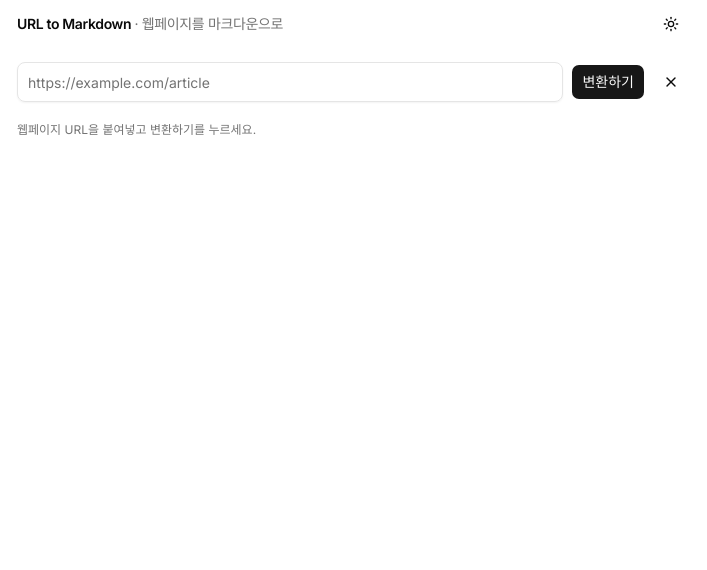
지우기를 누르면 입력과 결과가 초기화된다
The width and height of the screenshot is (707, 570).
Type "https://buildnote.dev/x" into the field named "웹페이지 URL". click: [290, 82]
box: [17, 62, 564, 102]
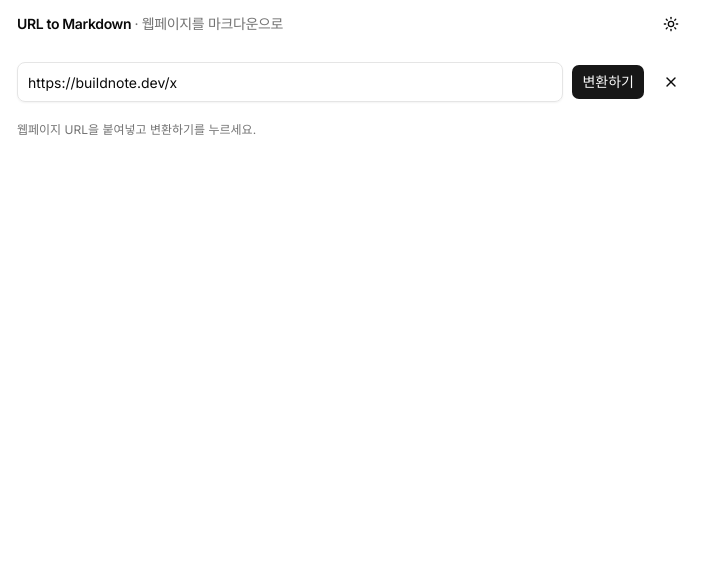
Click the button "변환하기". click: [608, 82]
box: [572, 64, 645, 100]
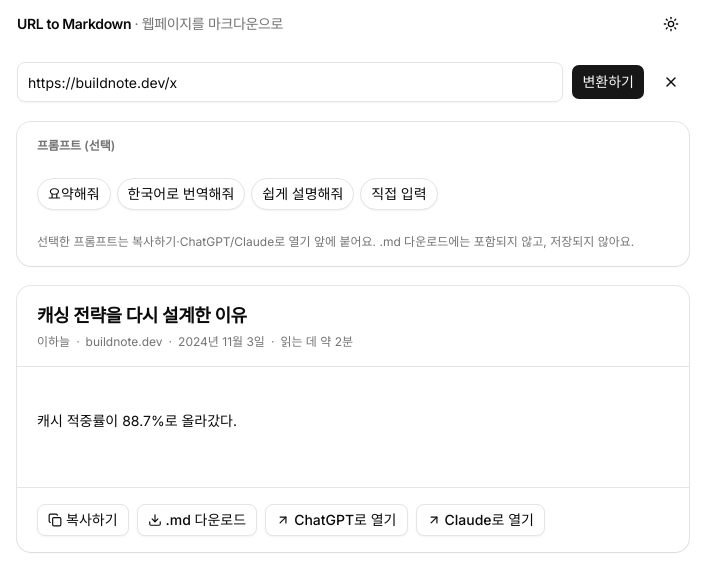
Expected: the heading "캐싱 전략을 다시 설계한 이유" is shown, [37, 305, 247, 326]
Click the button named "지우기". click: [671, 82]
box: [653, 64, 689, 100]
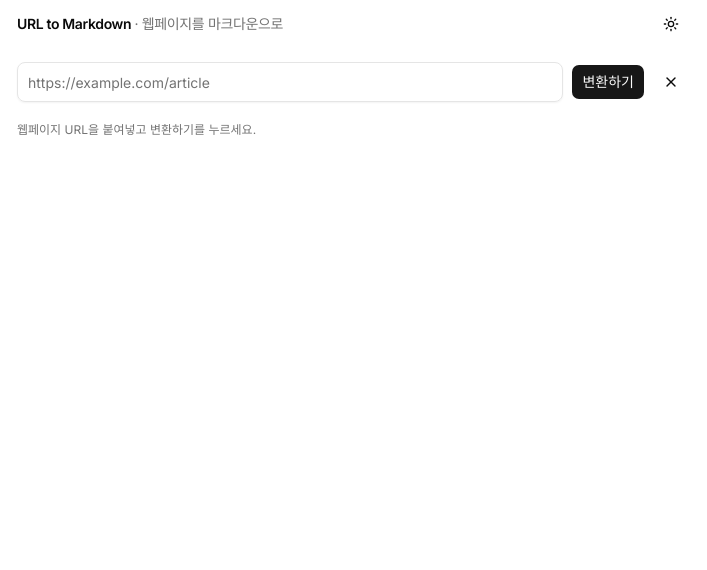
Expected: the field named "웹페이지 URL" is empty, [17, 62, 564, 102]
Expected: the heading "캐싱 전략을 다시 설계한 이유" is gone
